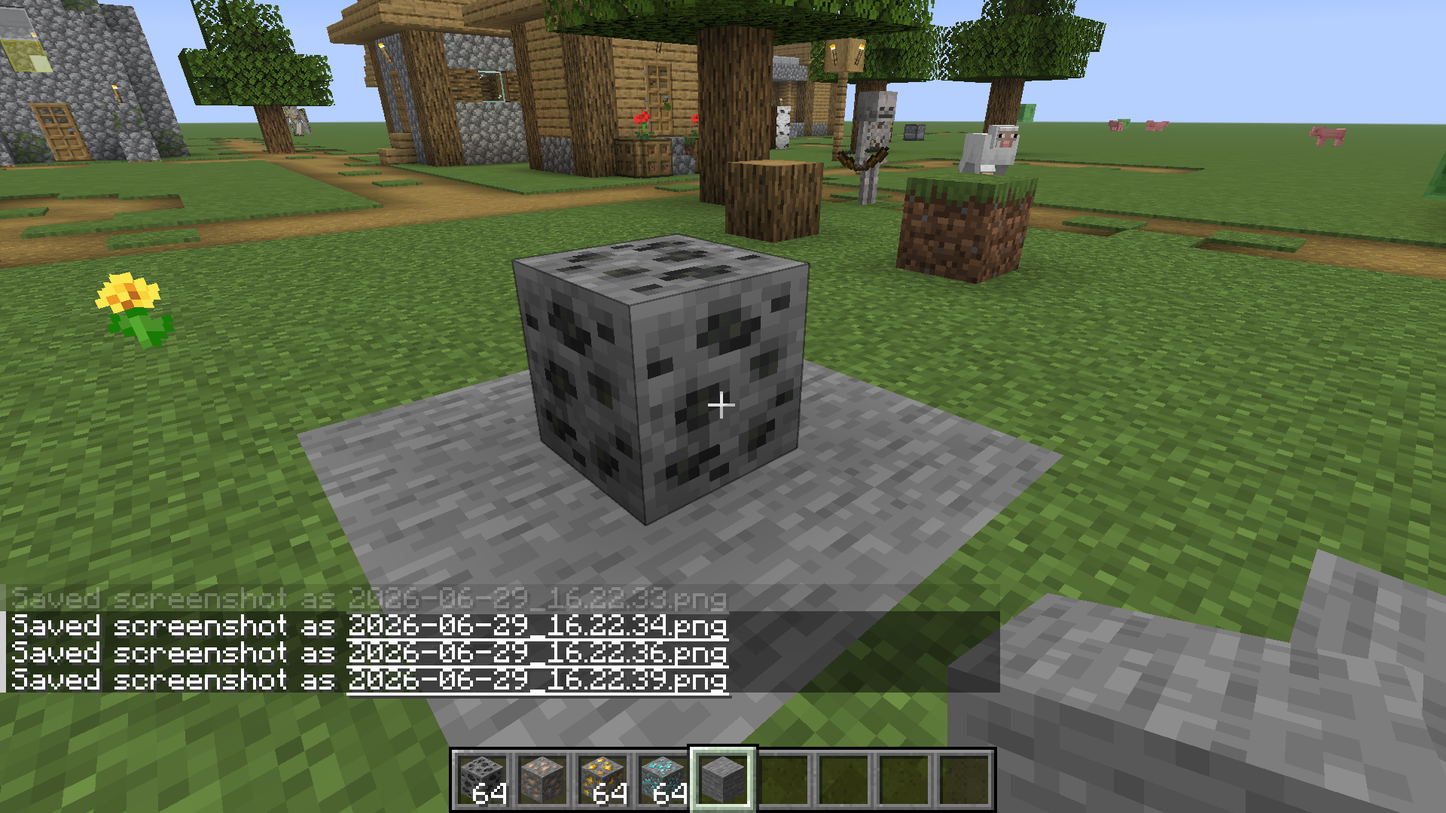Sheep: (958, 121, 1027, 178)
coal ore: (516, 235, 810, 520)
skeleton: (845, 83, 899, 208)
